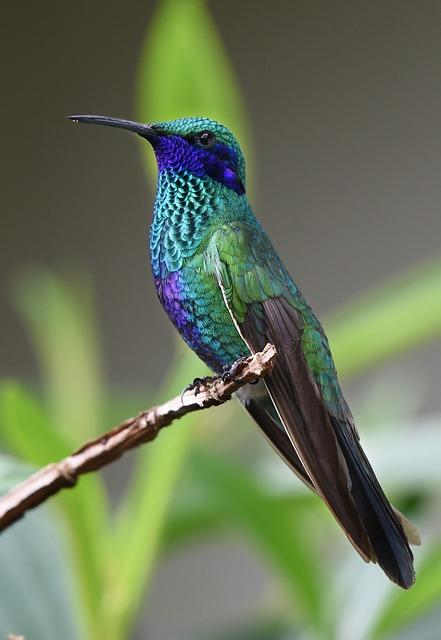bird: (71, 116, 419, 588)
